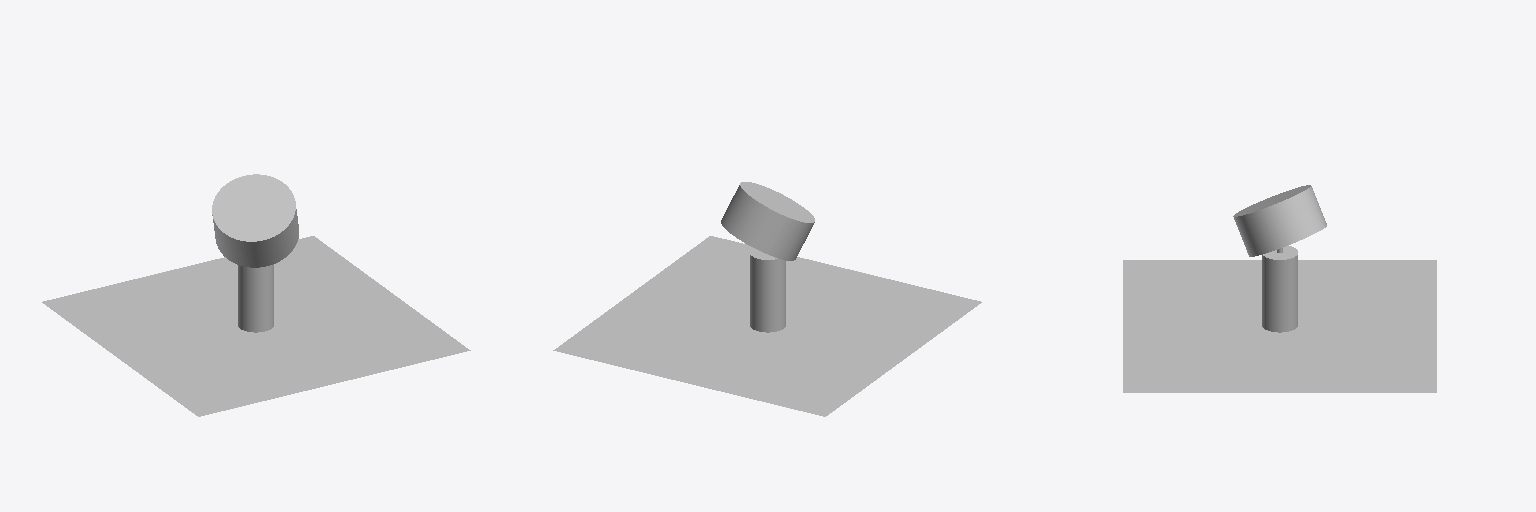
Rendered from lamp14.obj.
3 renders of one model, left to right at view 1: azimuth 30°, elevation 25°; view 2: azimuth 150°, elevation 25°; view 3: azimuth 270°, elevation 25°, orthographic.
Visible parts, largest first — view 1: Plane, Cylinder.002, Cylinder; view 2: Plane, Cylinder.002, Cylinder; view 3: Plane, Cylinder.002, Cylinder, Cylinder.001.
Boxes of the visible parts, box(x1,y1,x2,y2) form: Plane: box(42, 236, 470, 416); Cylinder.002: box(212, 174, 298, 267); Cylinder: box(238, 264, 273, 332); Plane: box(553, 236, 981, 416); Cylinder.002: box(721, 182, 814, 260); Cylinder: box(750, 262, 785, 332); Plane: box(1123, 260, 1436, 392); Cylinder.002: box(1233, 185, 1326, 256); Cylinder: box(1262, 262, 1297, 332); Cylinder.001: box(1262, 245, 1297, 266).
Bounding box in the file's own units: 17.18 × 8.48 × 17.18.